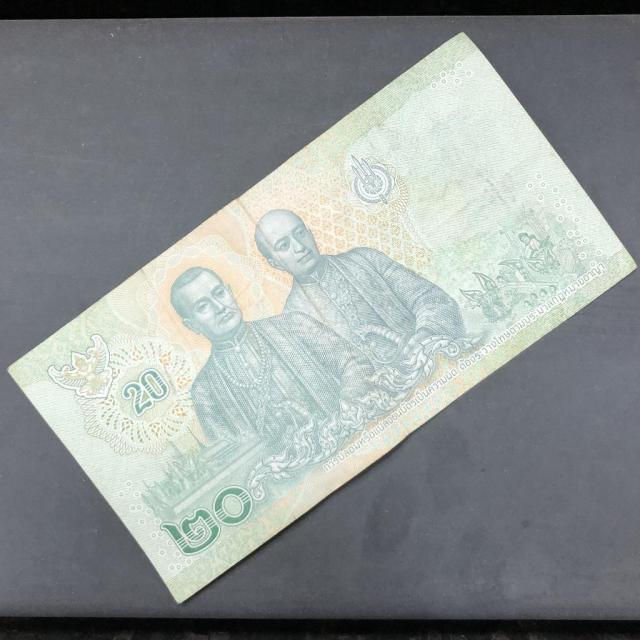THAI20: (10, 34, 635, 602)
